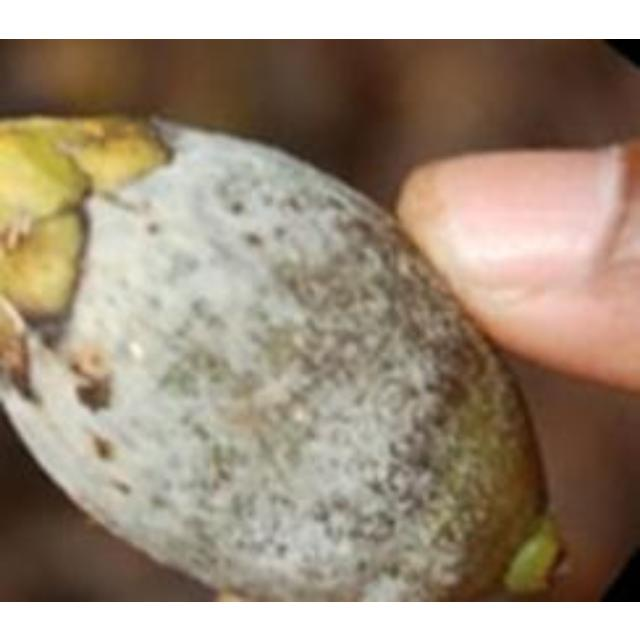damaged: (0, 117, 556, 599)
